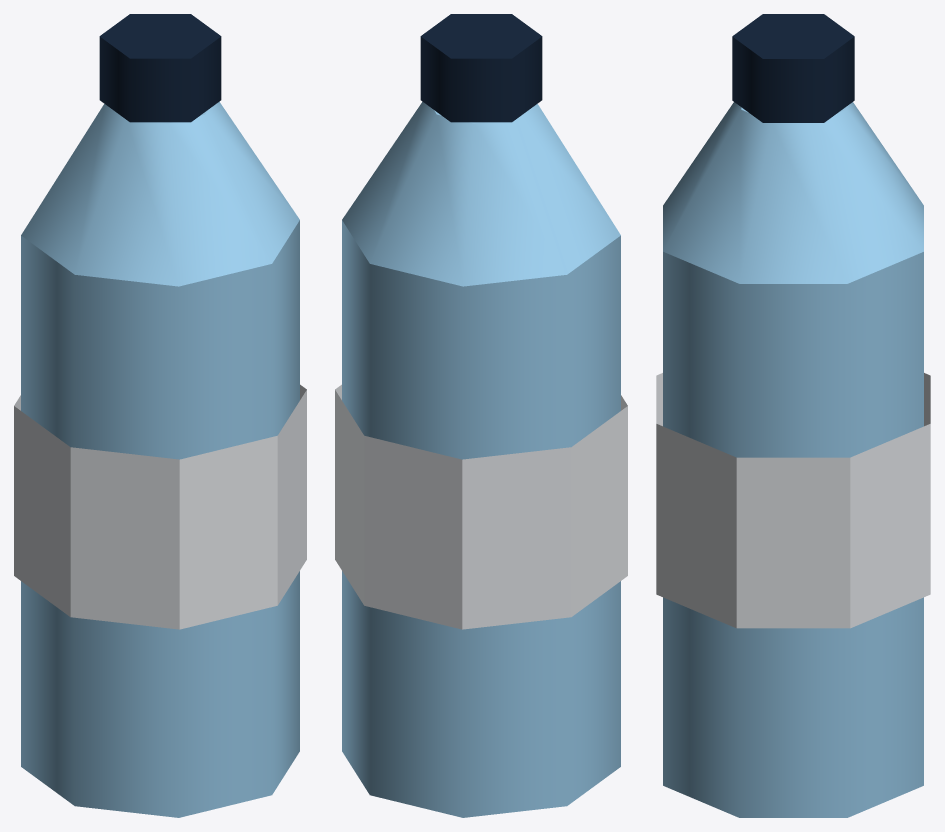
The model's file is CM_Product_WaterBottle.fbx.
3 renders of one model, left to right at view 1: azimuth 30°, elevation 25°; view 2: azimuth 150°, elevation 25°; view 3: azimuth 270°, elevation 25°, orthographic.
Parts seen in each view (by area): view 1: WaterBottle; view 2: WaterBottle; view 3: WaterBottle.
Part boxes in pixels (x1,y1,x2,y2): WaterBottle: [14, 14, 306, 817]; WaterBottle: [335, 14, 627, 817]; WaterBottle: [656, 14, 930, 817].
Size of the model in its own units: 0.582 by 0.582 by 1.7.
Materials: 1 (1 with a texture image).
